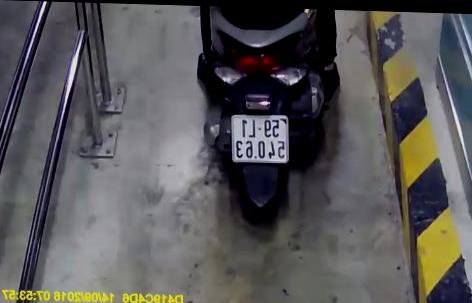License_Plate: (223, 108, 296, 168)
